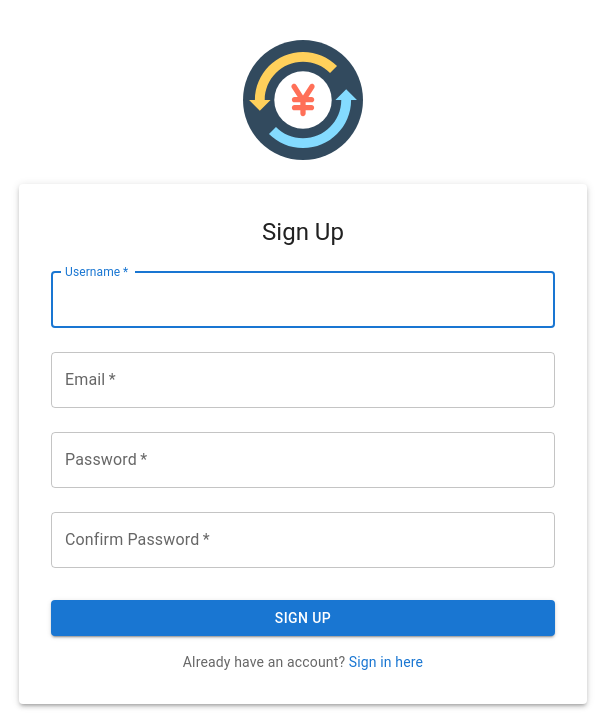
Test: RegisterPage › shows validation error for short username
The width and height of the screenshot is (607, 719).
Type "ab" into the field labelled "Username *".
click(303, 300); type("ab")  # box [51,272,555,328]
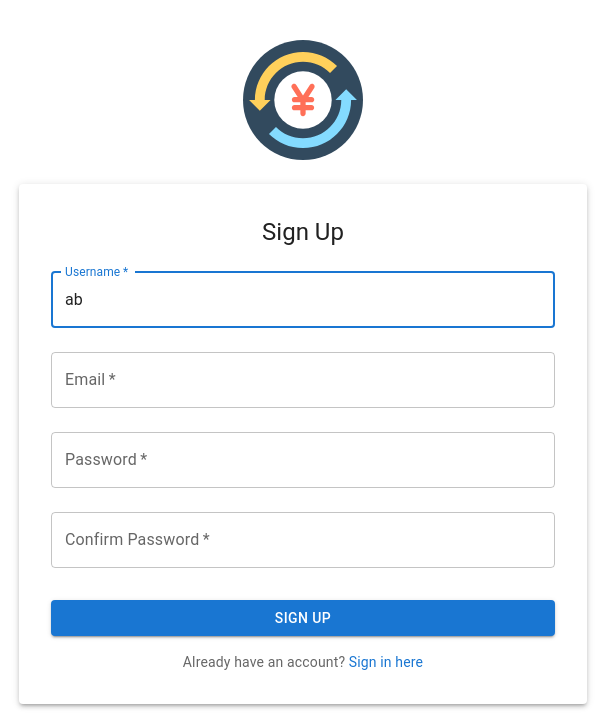
Click the button "Sign Up".
click(303, 618)  # box [51,600,555,636]
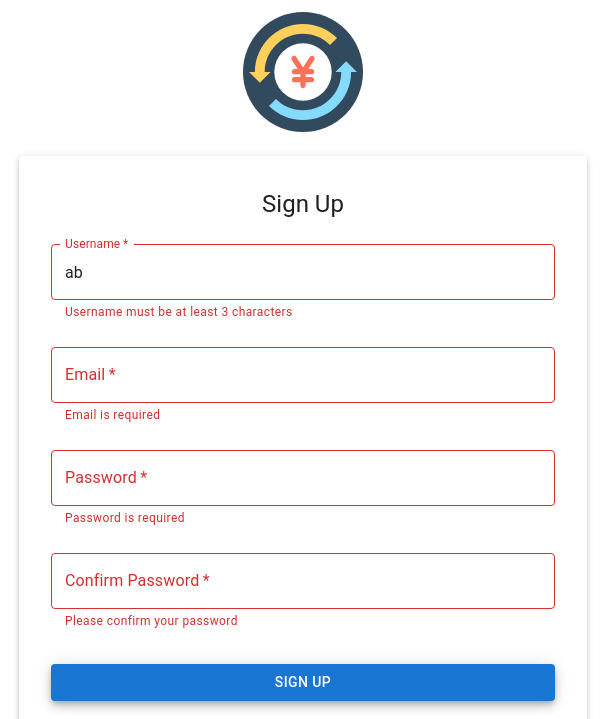
Now the text "Username must be at least 3 characters" is shown, box [65,305,293,319]
